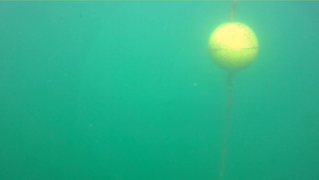buoy: (207, 21, 259, 71)
